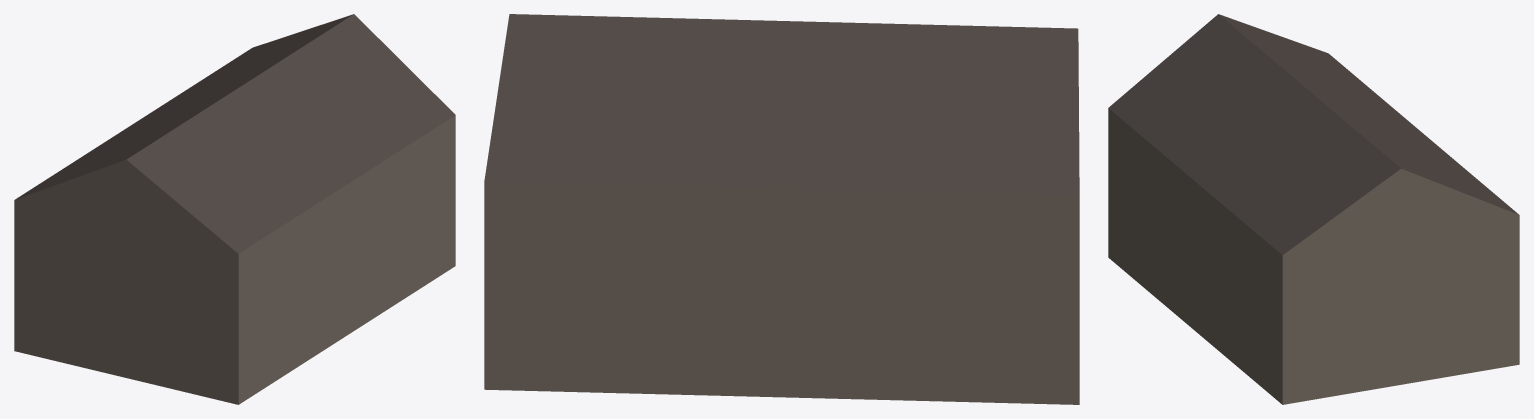
3 renders of one model, left to right at view 1: azimuth 30°, elevation 25°; view 2: azimuth 150°, elevation 25°; view 3: azimuth 270°, elevation 25°, orthographic. The views are drawn at different scales.
Visible parts, largest first — view 1: HP-w1512914163; view 2: HP-w1512914163; view 3: HP-w1512914163.
Part boxes in pixels (left/top/right/bottom): HP-w1512914163: left=14, top=14, right=455, bottom=404; HP-w1512914163: left=484, top=14, right=1079, bottom=404; HP-w1512914163: left=1108, top=14, right=1519, bottom=404.
Size of the model in its own units: 26.09 by 13.01 by 22.45.
